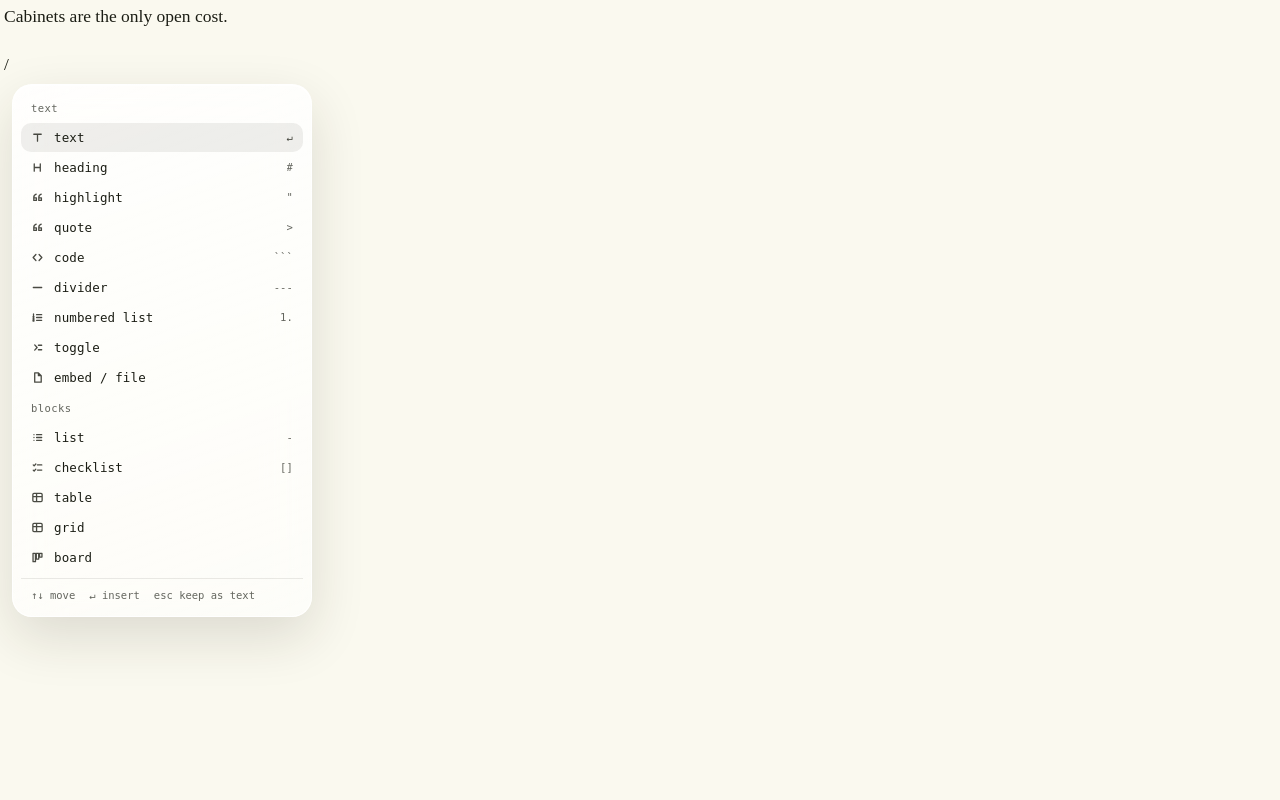
Test: KAN-558 — only an empty text line is removed on exit › an empty checklist and an empty table stay when focus leaves them empty; an empty text line goes
This screenshot has width=1280, height=800.
Click the text "checklist": [88, 467] box [54, 460, 123, 474]
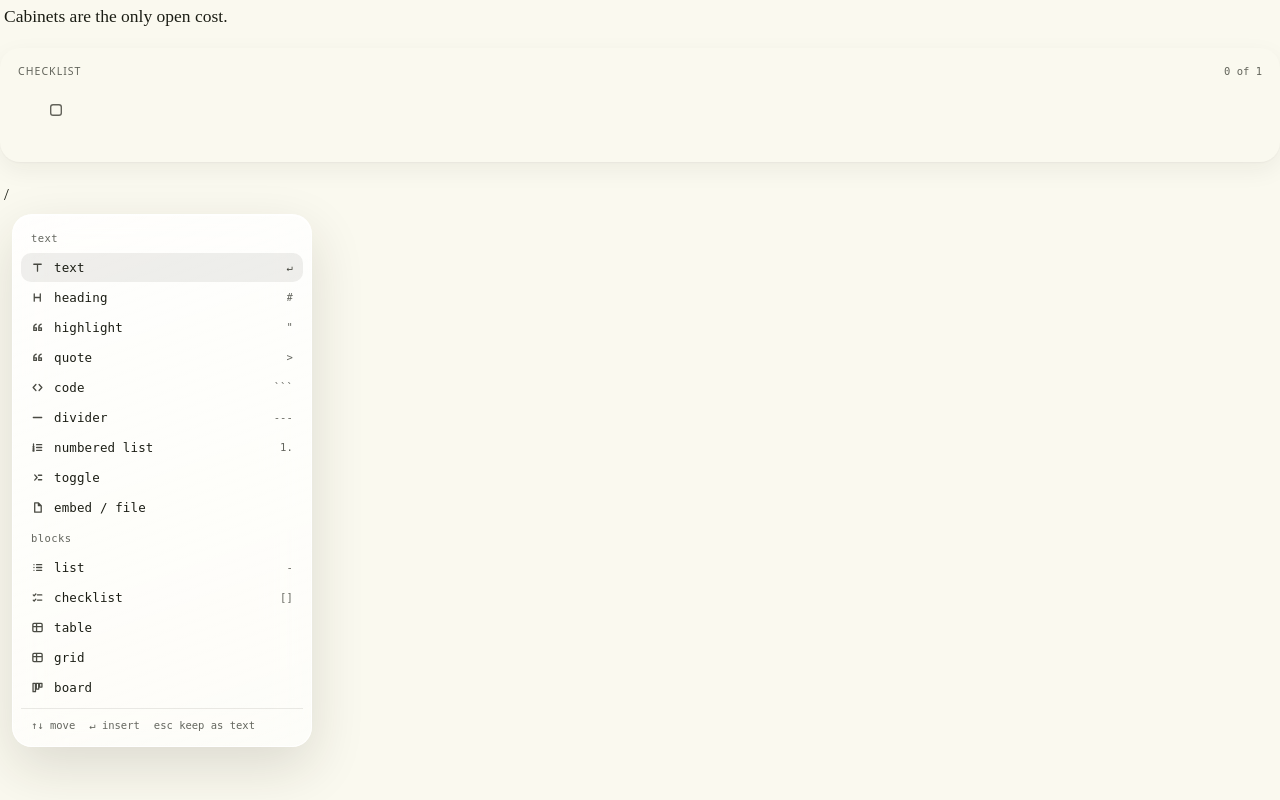
Click the option "grid": [58, 656] box [31, 649, 85, 664]
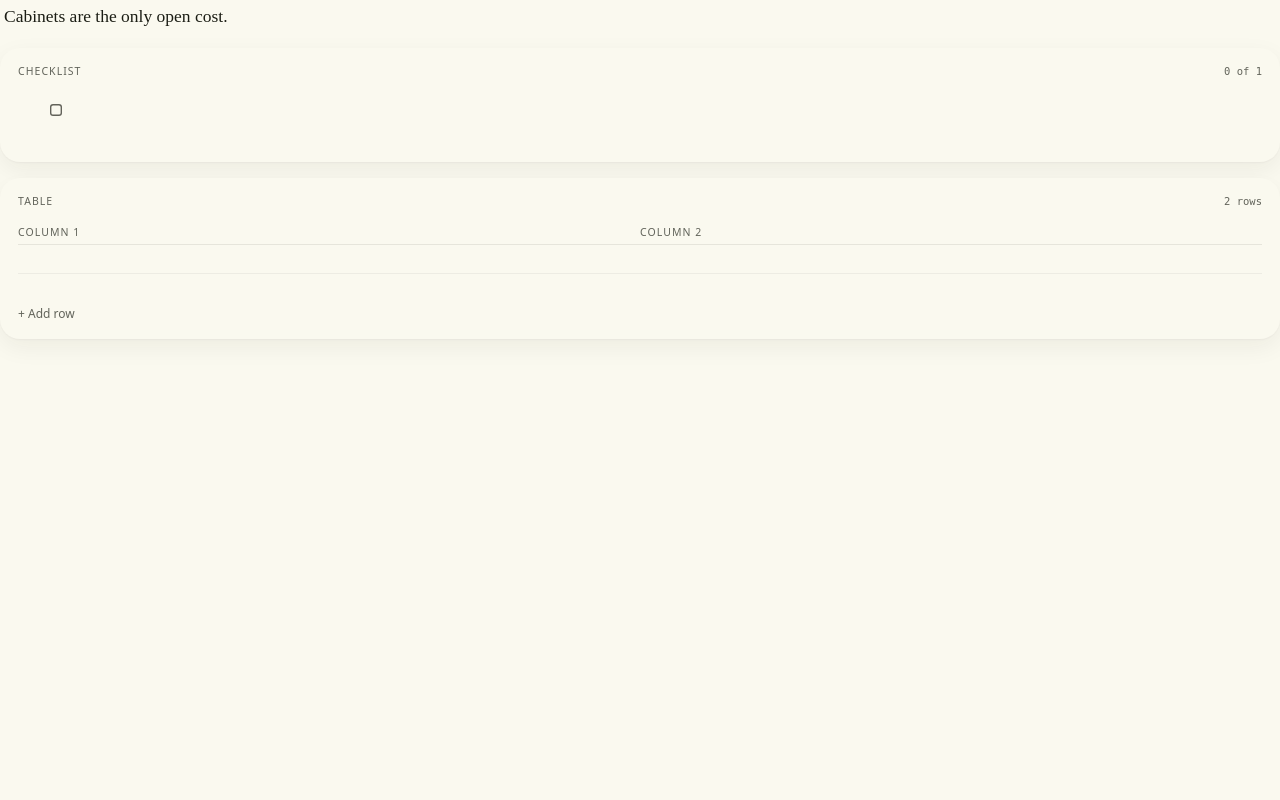
Now the column heading "Column 1" is shown, box [18, 221, 640, 245]
